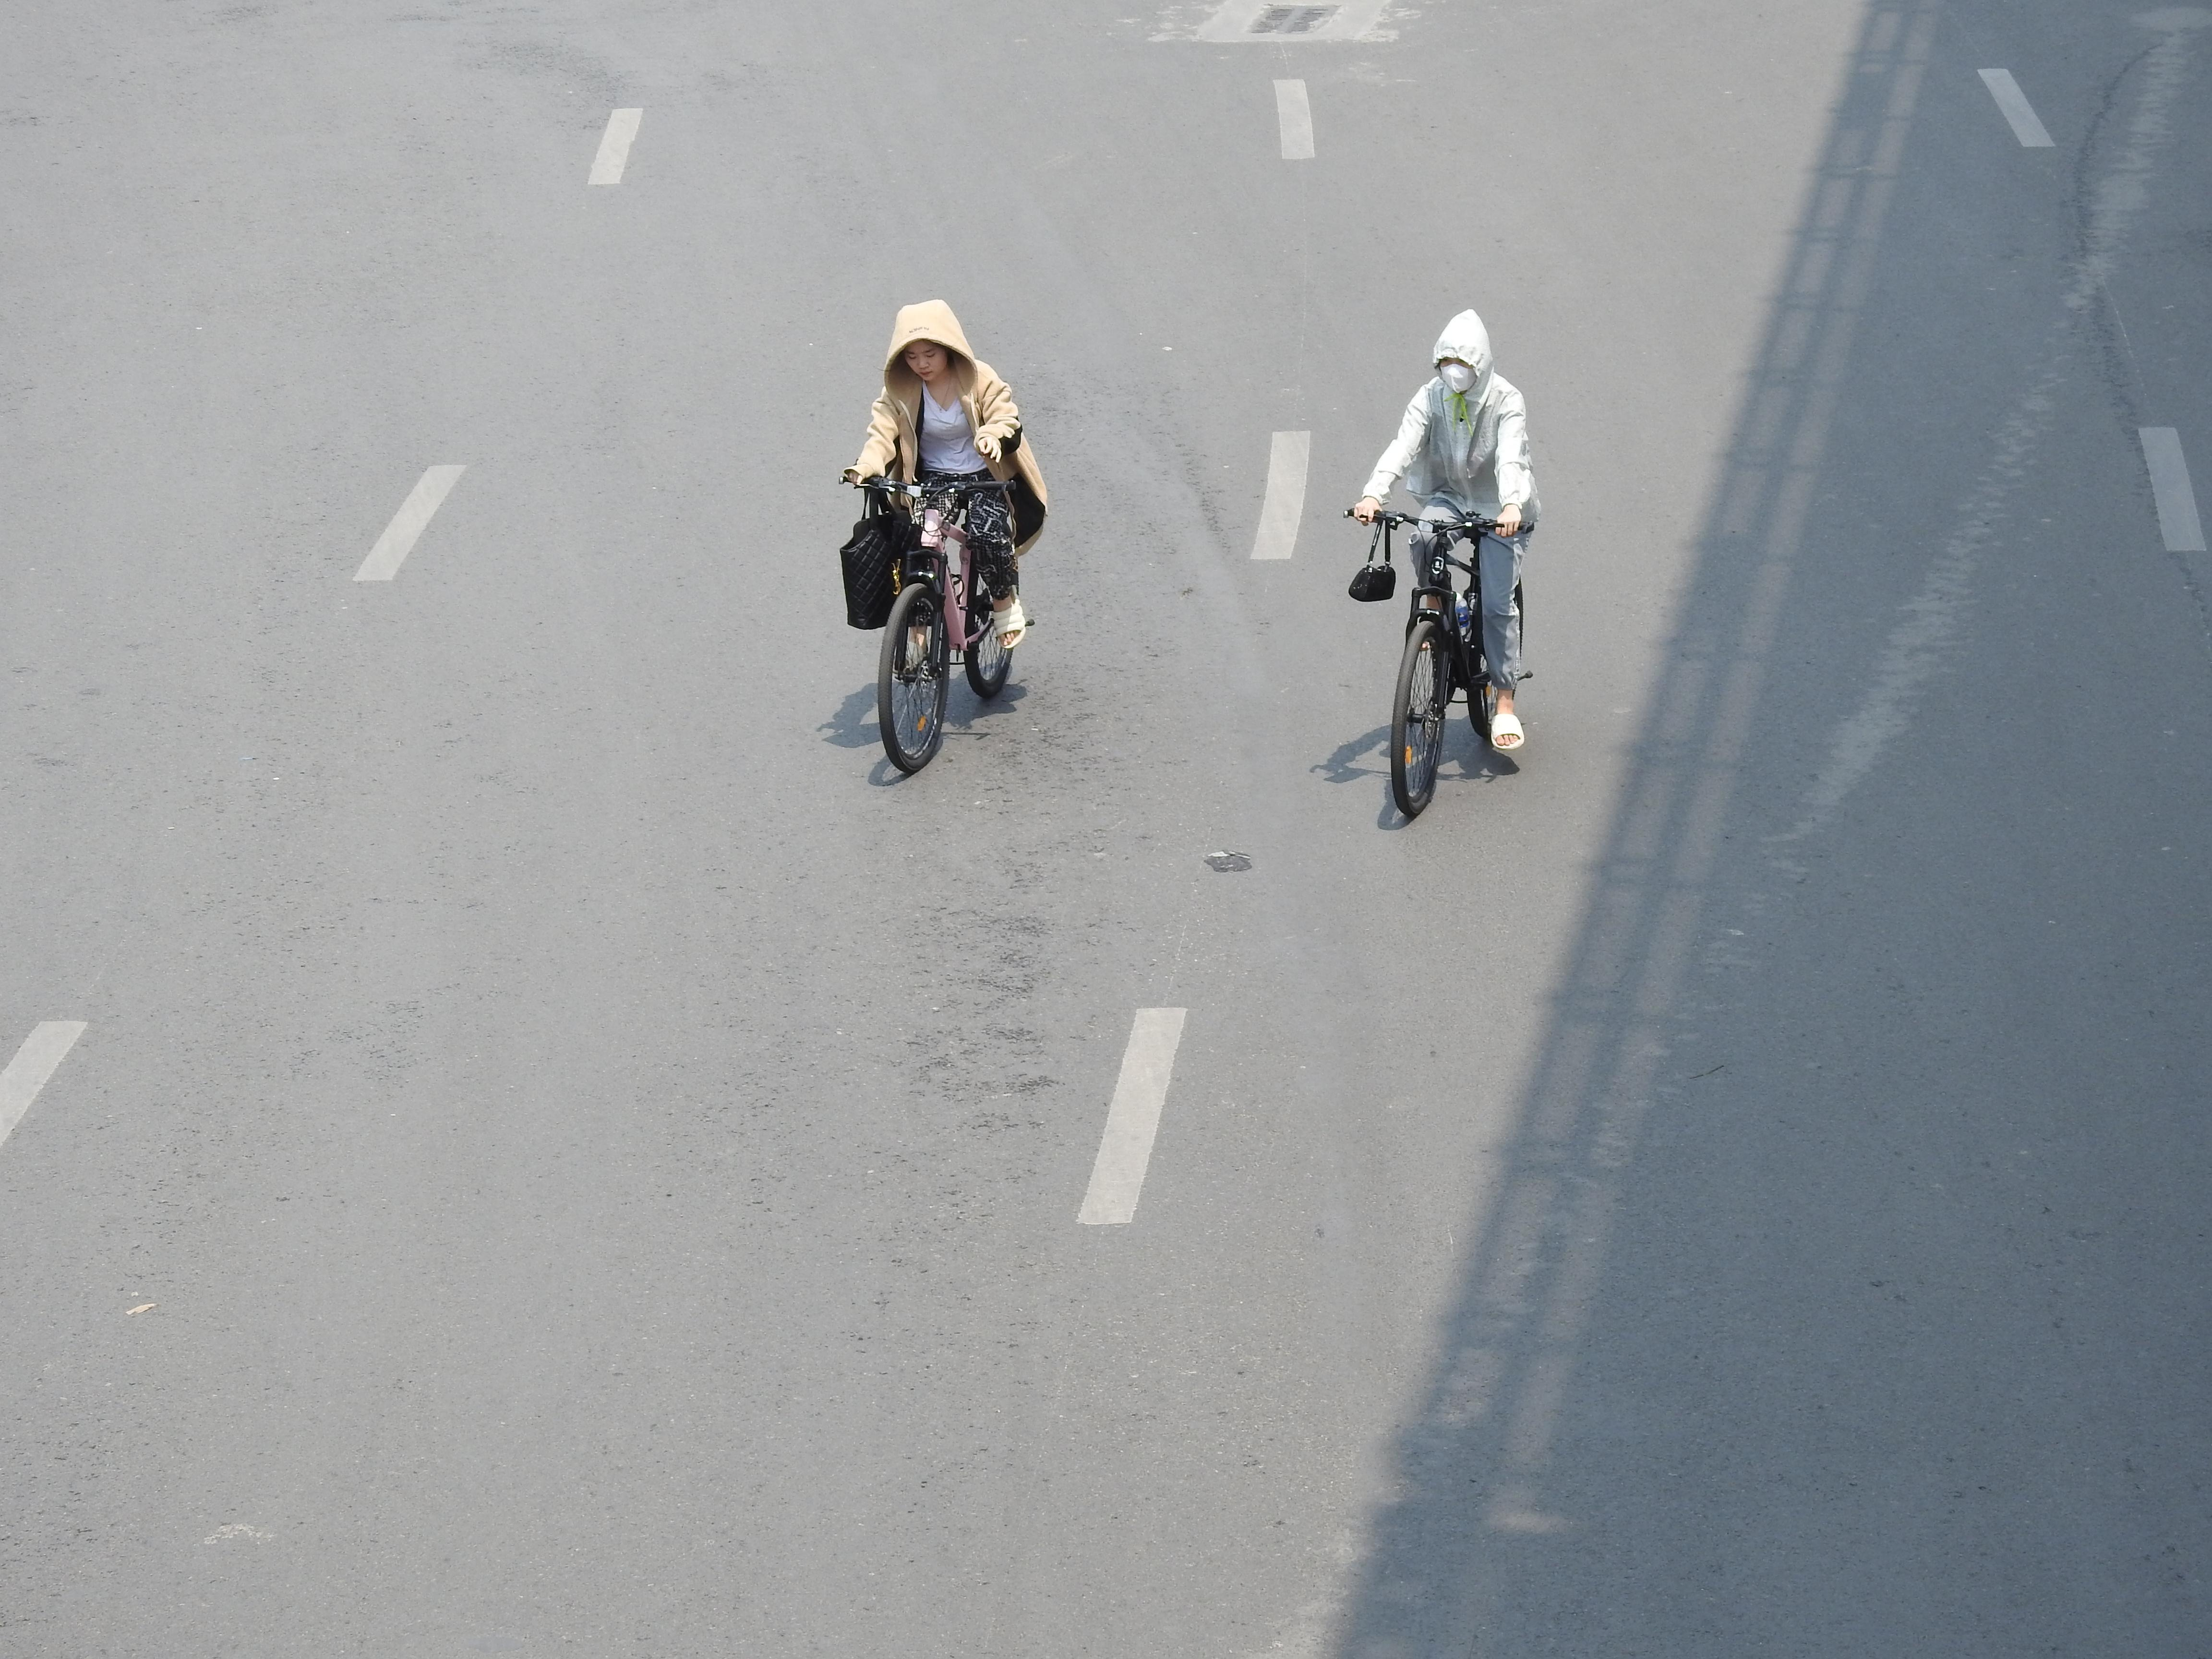motorbike: (840, 298, 1045, 781), (1348, 308, 1538, 828)
